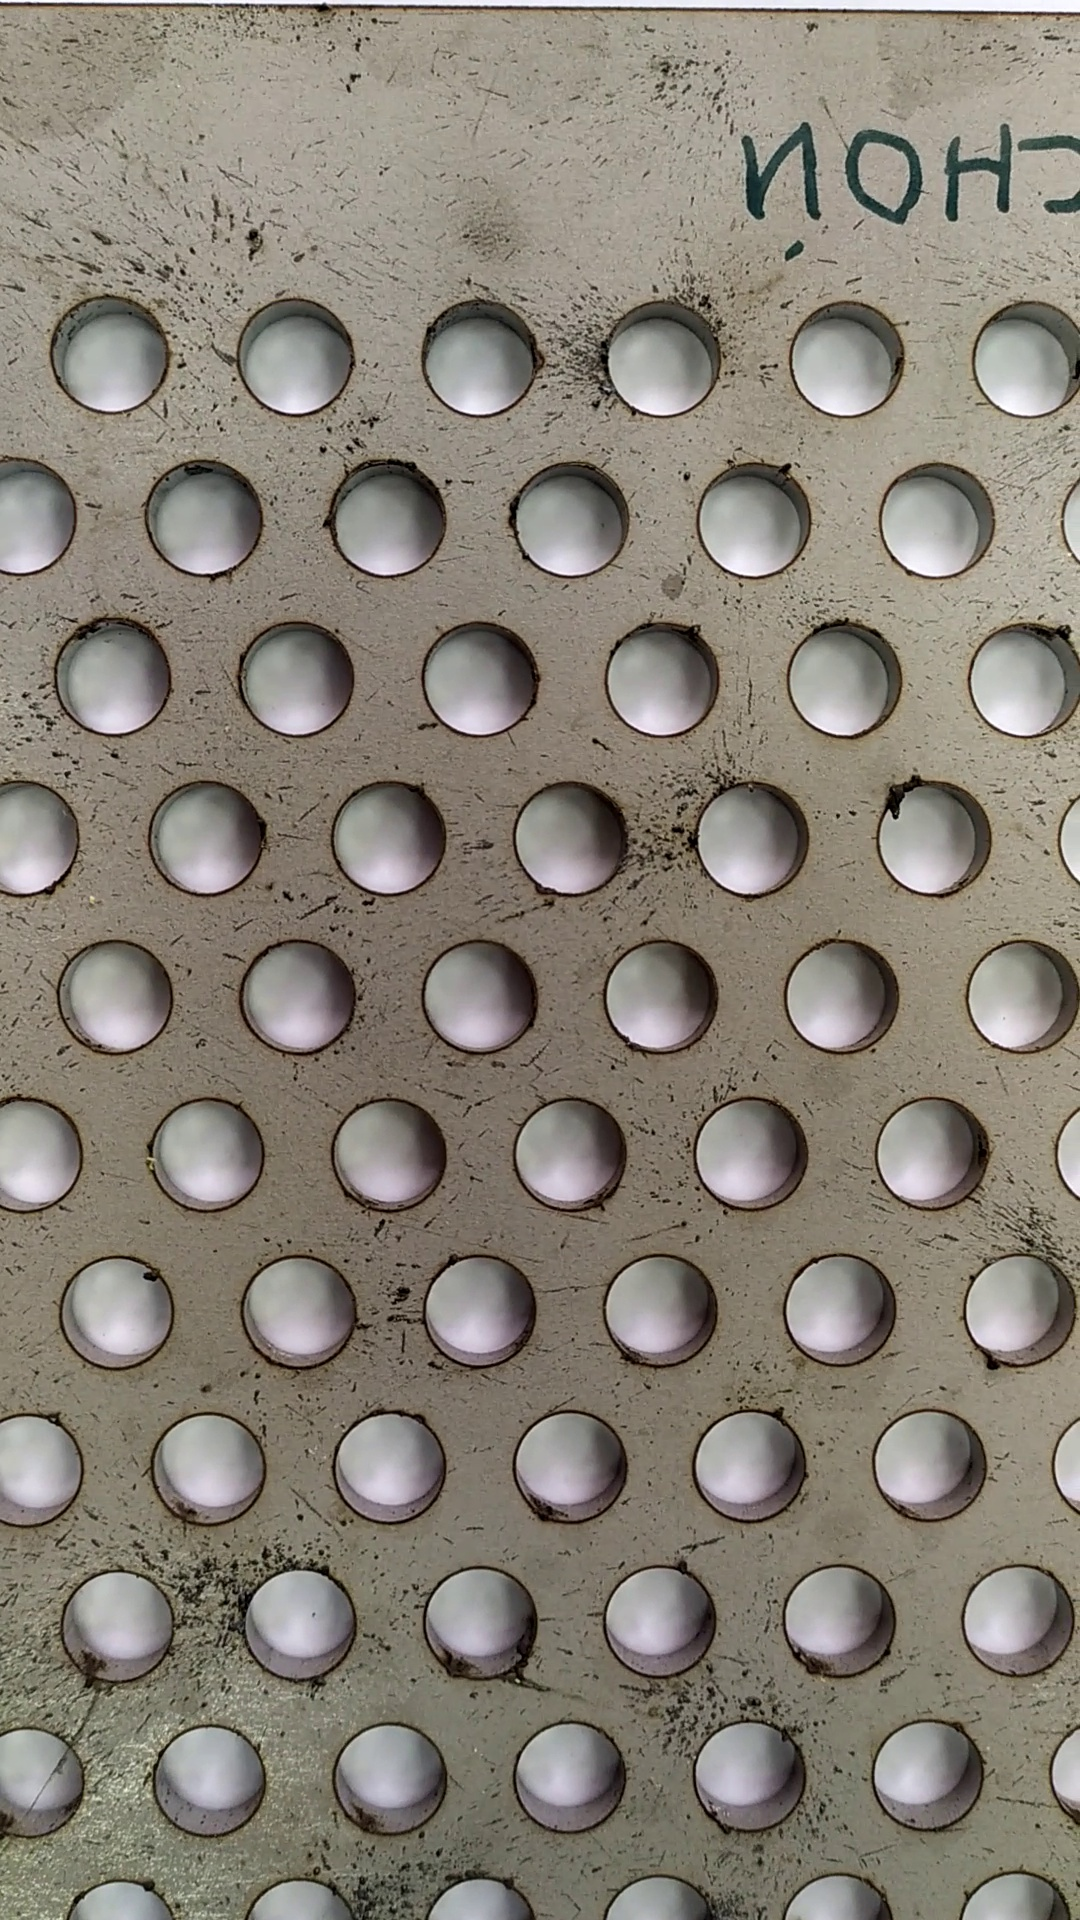Hole: (404, 1244, 568, 1383), (30, 276, 191, 417), (675, 1389, 824, 1534), (404, 287, 556, 429), (855, 760, 1004, 903), (492, 1396, 641, 1536), (773, 926, 918, 1068), (406, 926, 551, 1065), (32, 609, 187, 738), (496, 762, 636, 905), (222, 926, 365, 1064), (49, 1553, 189, 1695), (596, 932, 741, 1068), (131, 452, 280, 583), (136, 767, 277, 903), (767, 1244, 913, 1375), (865, 444, 1002, 582), (225, 1240, 363, 1377), (683, 1083, 818, 1222), (314, 452, 459, 582), (591, 1242, 727, 1379), (314, 1091, 458, 1220), (232, 609, 367, 746), (410, 1553, 545, 1691), (504, 1713, 641, 1847), (320, 1395, 454, 1534), (593, 289, 735, 419), (402, 615, 549, 740), (320, 762, 454, 899), (858, 1702, 992, 1840), (140, 1087, 280, 1217), (851, 1404, 996, 1530), (680, 1716, 822, 1844), (236, 1556, 371, 1689), (496, 454, 638, 579), (773, 1553, 906, 1687), (683, 454, 820, 582), (684, 770, 812, 907), (596, 1560, 735, 1687), (597, 605, 727, 740), (953, 924, 1080, 1060), (232, 285, 357, 422), (862, 1089, 1000, 1215), (779, 618, 920, 740), (47, 1247, 183, 1373), (783, 293, 914, 422), (506, 1087, 634, 1218), (951, 1244, 1079, 1375), (140, 1403, 273, 1530), (322, 1716, 455, 1842), (957, 607, 1080, 744), (138, 1717, 276, 1840), (51, 932, 179, 1062), (965, 284, 1080, 419), (955, 1557, 1079, 1681)
